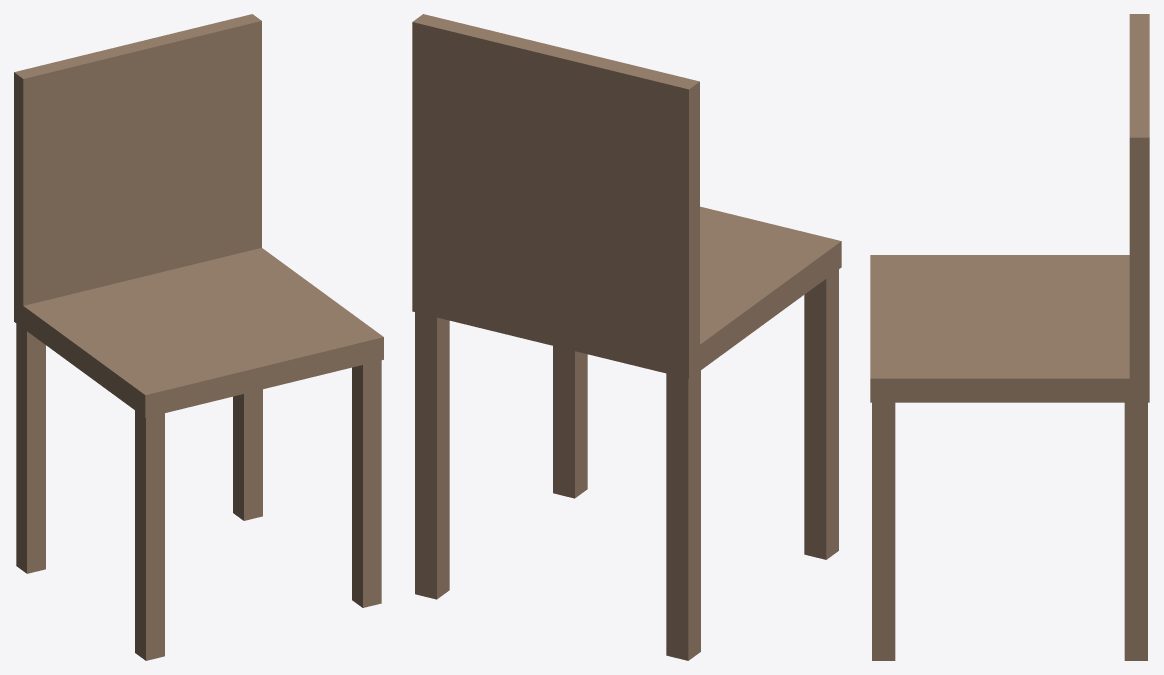
Rendered from chair.glb.
3 renders of one model, left to right at view 1: azimuth 30°, elevation 25°; view 2: azimuth 150°, elevation 25°; view 3: azimuth 270°, elevation 25°, orthographic. The views are drawn at different scales.
Visible parts, largest first — view 1: back, seat, leg2, leg3, leg0, leg1; view 2: back, seat, leg0, leg1, leg2, leg3; view 3: seat, back, leg1, leg3.
Part boxes in pixels (bbox=[...]): back: bbox=[14, 14, 261, 305]; seat: bbox=[14, 248, 383, 417]; leg2: bbox=[135, 410, 164, 660]; leg3: bbox=[352, 360, 381, 607]; leg0: bbox=[16, 323, 45, 573]; leg1: bbox=[233, 389, 262, 520]; back: bbox=[412, 14, 699, 352]; seat: bbox=[412, 206, 841, 378]; leg0: bbox=[666, 370, 700, 660]; leg1: bbox=[415, 312, 449, 599]; leg2: bbox=[804, 269, 838, 559]; leg3: bbox=[553, 346, 587, 498]; seat: bbox=[870, 255, 1149, 402]; back: bbox=[1129, 14, 1149, 378]; leg1: bbox=[1124, 402, 1147, 660]; leg3: bbox=[872, 402, 895, 660].
Size of the model in its own units: 0.44 by 0.87 by 0.42.
